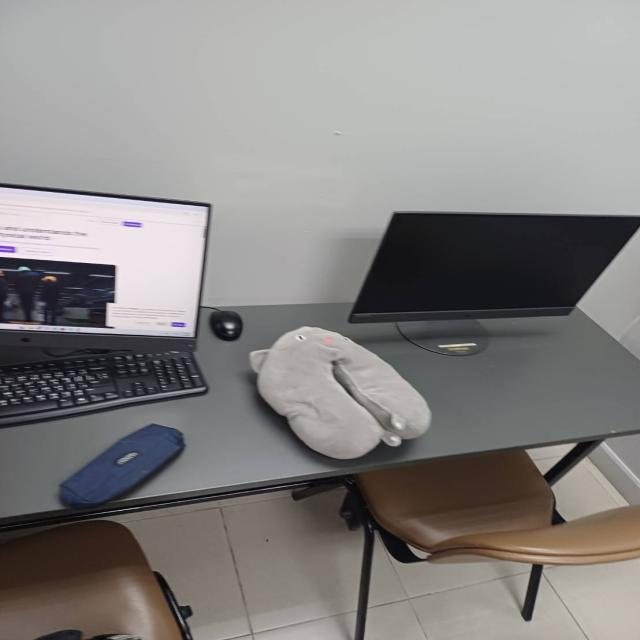pillow: (241, 322, 437, 466)
